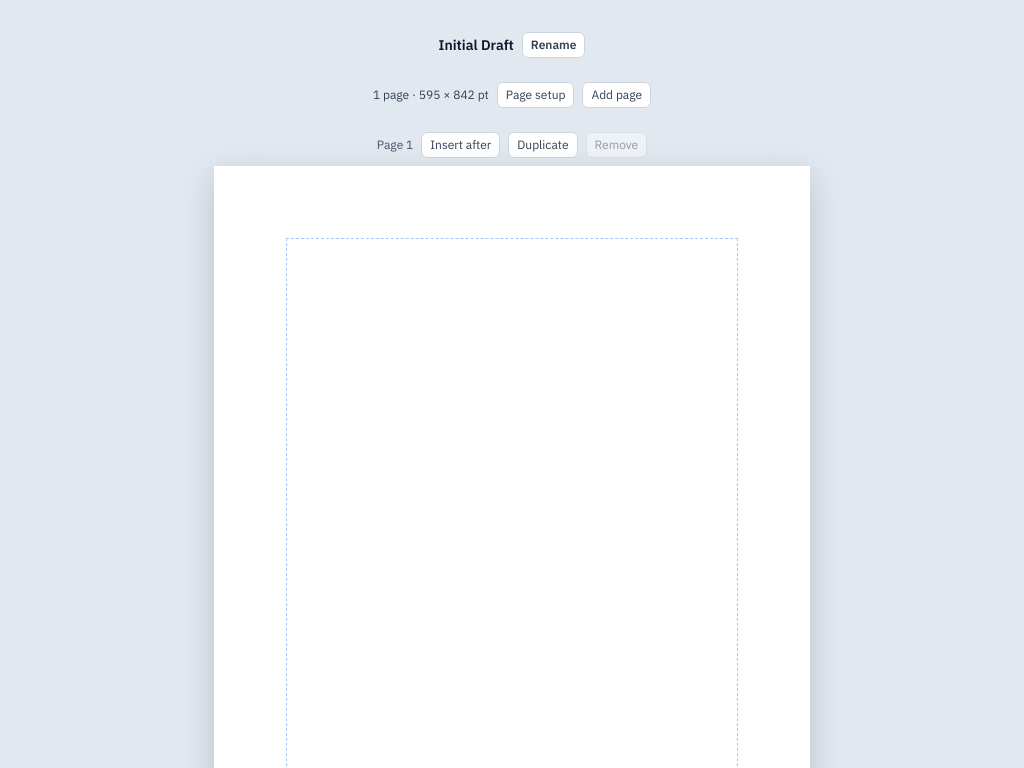
Test: WriterBlankDocumentCanvas rename flow › renames the active blank Writer document
Click the button with test id "writer-blank-document-rename-button" at (554, 45), box [522,32,585,58]
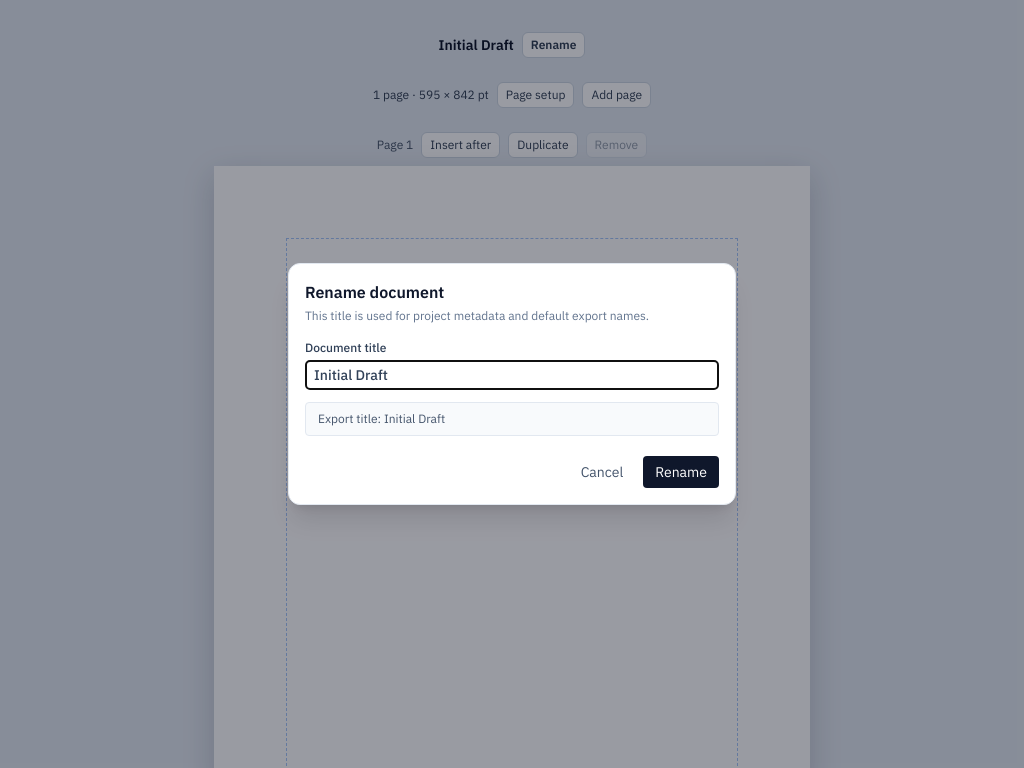
Replace the text in the field with test id "blank-document-rename-input" with "  Renamed   Draft  " at (512, 375), box [305,360,719,390]
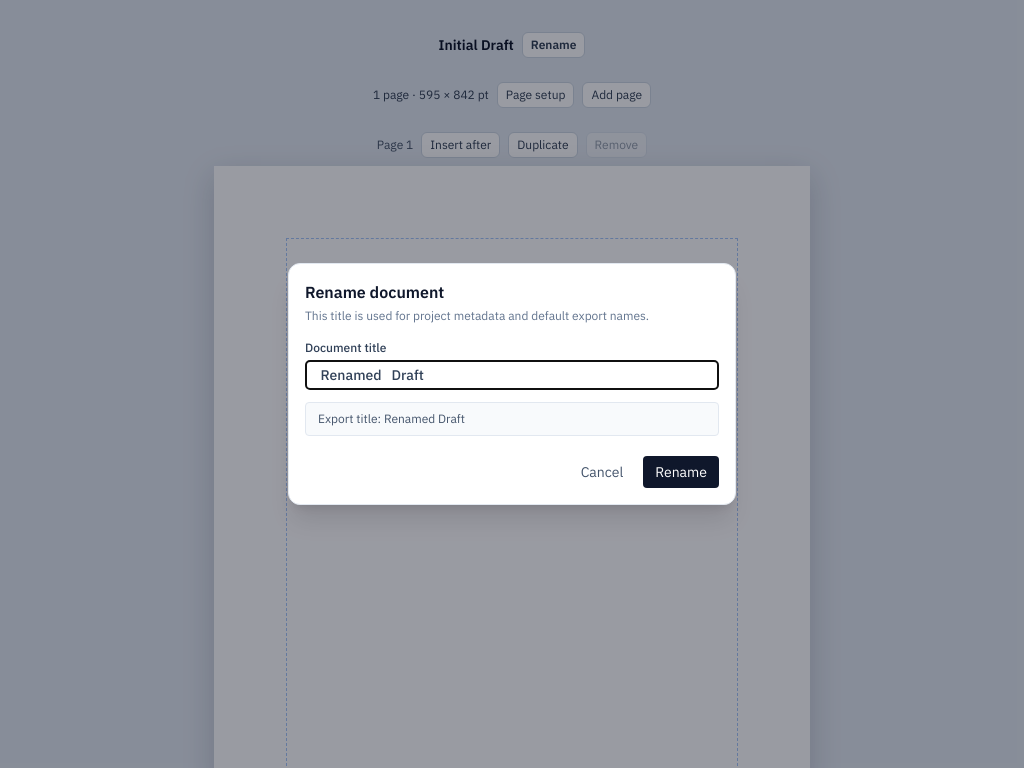
Click the button with test id "blank-document-rename-apply-button" at (681, 472), box [643,456,719,488]
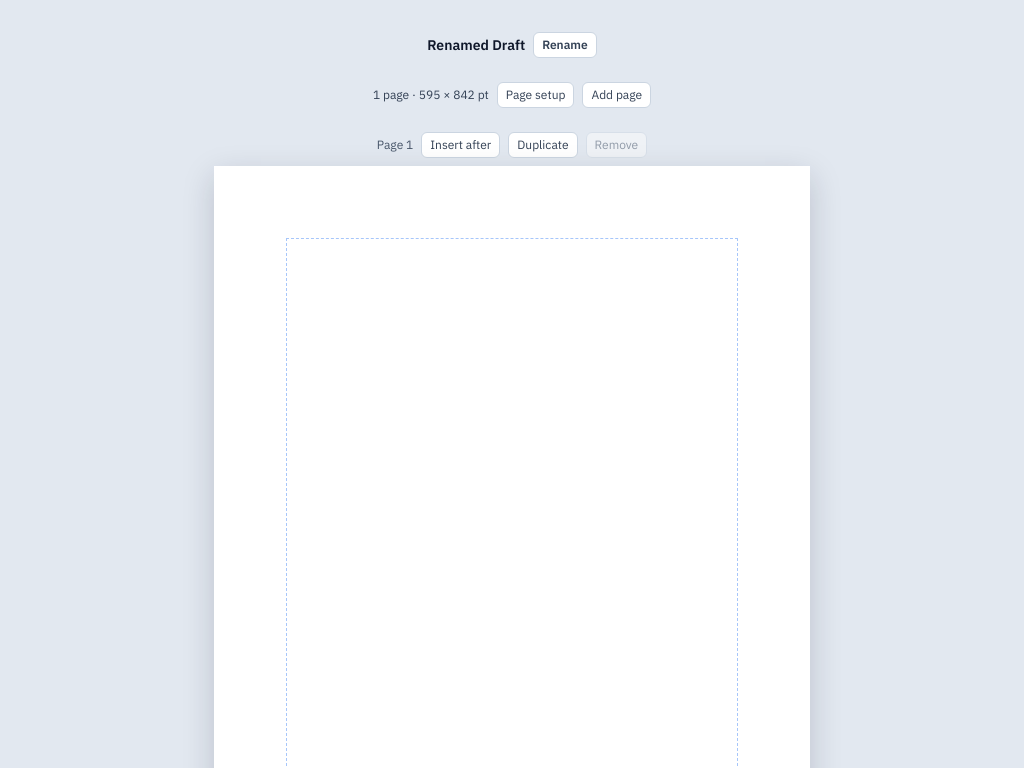
Check: the text "Renamed Draft" is shown, box [427,34,525,56]
Check: the dialog with test id "blank-document-rename-dialog" is gone
Check: the text with test id "writer-blank-document-title" reads "Renamed Draft", box [427,36,525,54]
